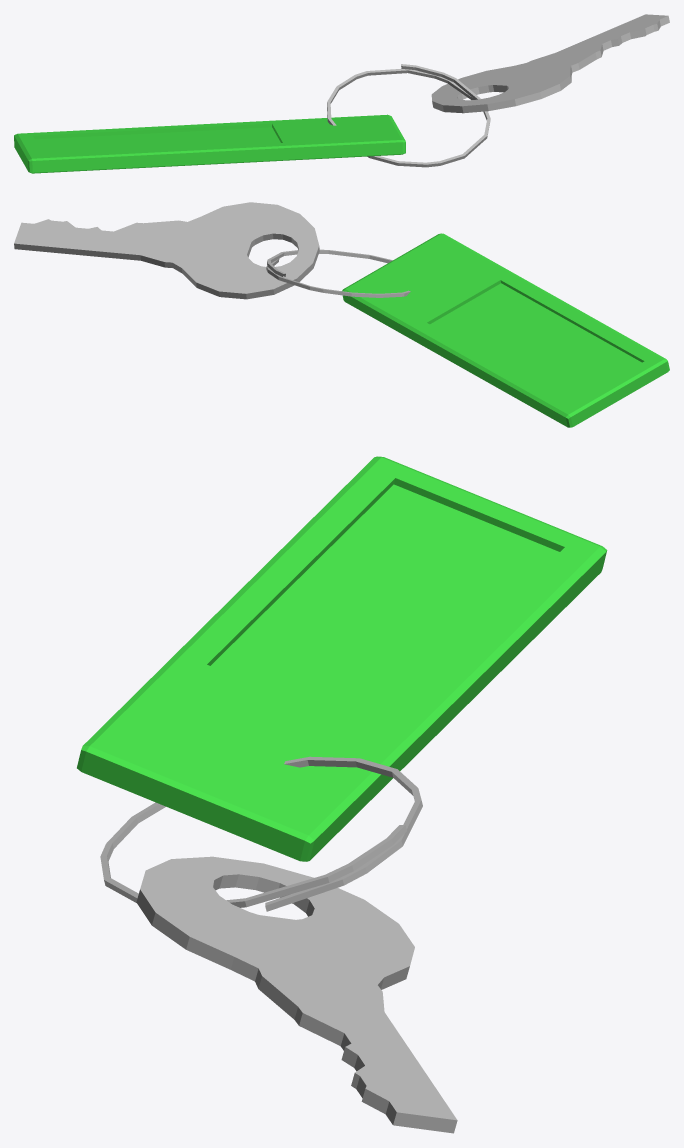
File: SM_Keys.fbx
The picture shows the model from 3 angles, top to bottom: view 1: azimuth 30°, elevation 25°; view 2: azimuth 150°, elevation 25°; view 3: azimuth 270°, elevation 25°; orthographic projection. The views are drawn at different scales.
Parts seen in each view (by area): view 1: SM_Keys; view 2: SM_Keys; view 3: SM_Keys.
Boxes of the visible parts, x1,y1,x2,y2 form: SM_Keys: (14, 14, 669, 173); SM_Keys: (14, 202, 669, 427); SM_Keys: (77, 456, 607, 1133).
Bounding box in the file's own units: 29.43 × 10.51 × 1.76.
1 material, 1 textured.
